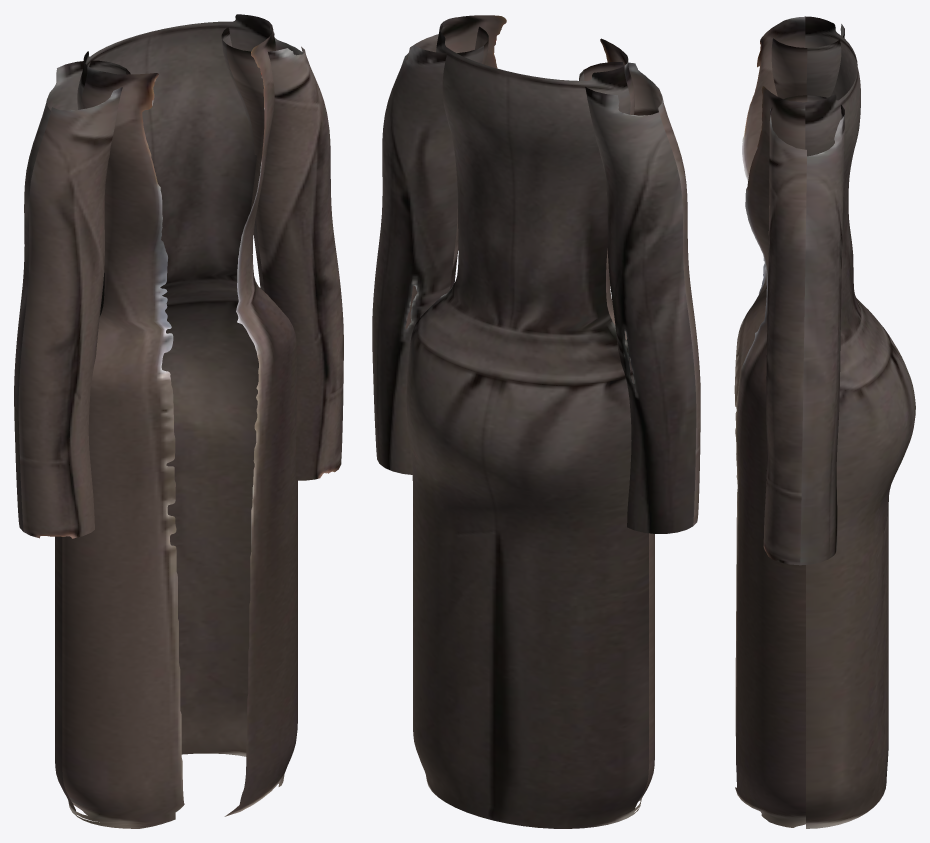
Rendered from prod-ae-camel-silk-wool-coat.glb.
3 renders of one model, left to right at view 1: azimuth 30°, elevation 25°; view 2: azimuth 150°, elevation 25°; view 3: azimuth 270°, elevation 25°, orthographic. The views are drawn at different scales.
Visible parts, largest first — view 1: prod-ae-camel-silk-wool-coat; view 2: prod-ae-camel-silk-wool-coat; view 3: prod-ae-camel-silk-wool-coat.
Boxes of the visible parts, bbox=[...] form: prod-ae-camel-silk-wool-coat: bbox=[14, 14, 343, 828]; prod-ae-camel-silk-wool-coat: bbox=[372, 15, 700, 828]; prod-ae-camel-silk-wool-coat: bbox=[734, 16, 915, 828].
Size of the model in its own units: 0.4272 by 0.9538 by 0.2233.
1 material, 1 textured.
